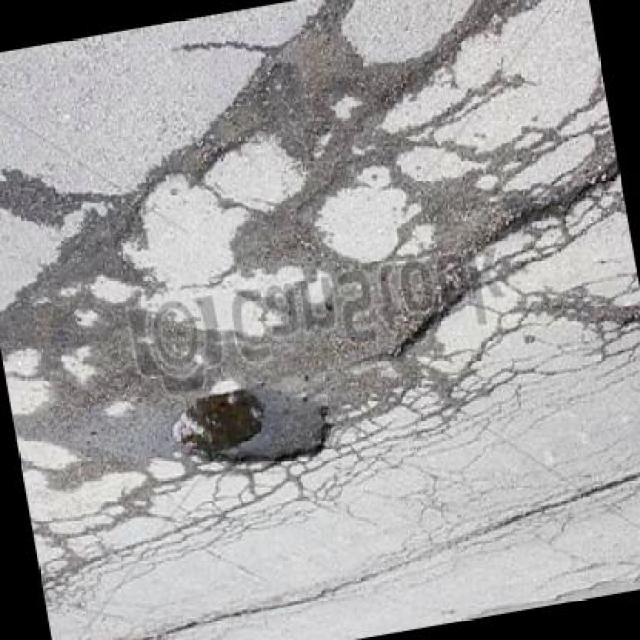pothole1: (158, 372, 338, 493), (374, 286, 478, 366)
